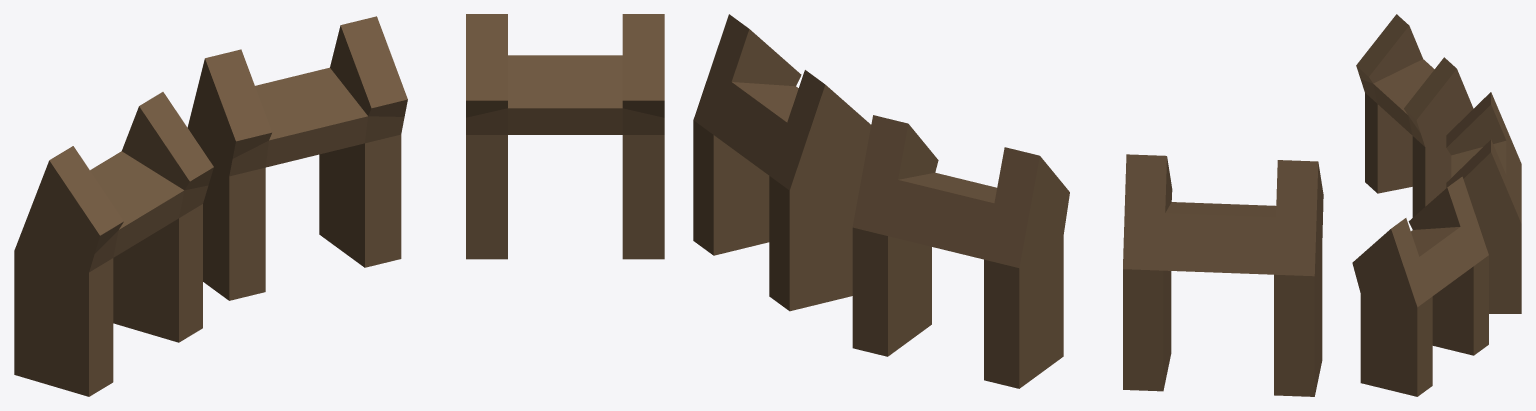
Rendered from javelin_thrower_holder(multishot +2).fbx.
3 renders of one model, left to right at view 1: azimuth 30°, elevation 25°; view 2: azimuth 150°, elevation 25°; view 3: azimuth 270°, elevation 25°, orthographic. The views are drawn at different scales.
Parts seen in each view (by area): view 1: holder.004; view 2: holder.004; view 3: holder.004.
Part boxes in pixels (bbox=[...]): holder.004: bbox=[14, 14, 664, 396]; holder.004: bbox=[693, 14, 1323, 396]; holder.004: bbox=[1352, 14, 1521, 396].
Bounding box in the file's own units: 56.55 × 18.83 × 17.86.
1 material, 1 textured.
